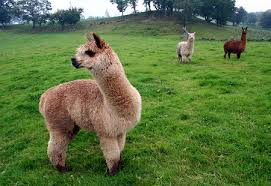alpaca: (38, 32, 142, 176), (223, 26, 248, 62), (175, 31, 196, 65)
